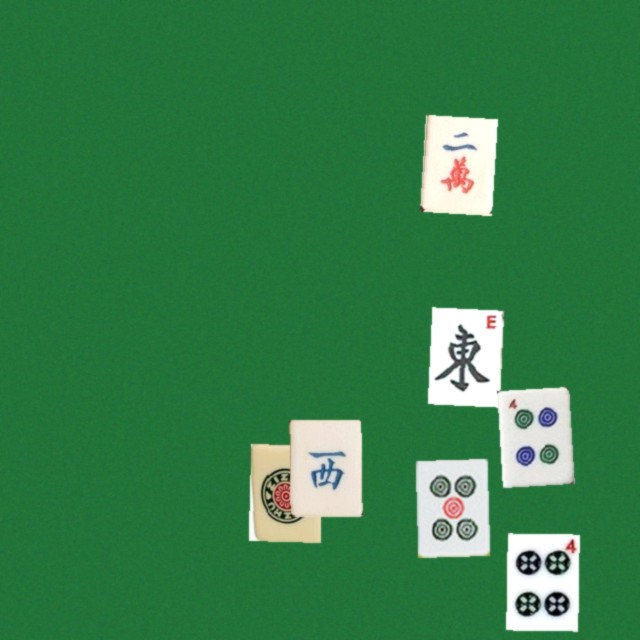tile: (427, 307, 499, 404), (497, 386, 569, 483), (415, 458, 487, 555), (420, 114, 492, 211), (248, 444, 320, 541), (289, 419, 361, 516), (506, 533, 578, 630)
